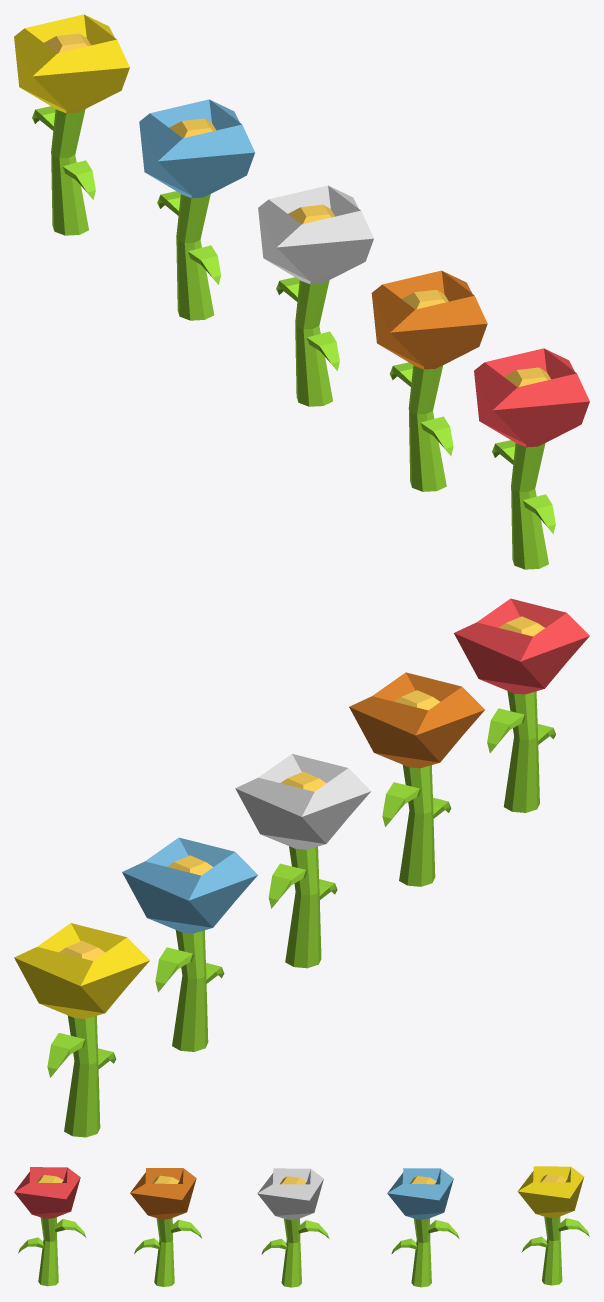
The model's file is Flowers.fbx.
The picture shows the model from 3 angles, top to bottom: view 1: azimuth 30°, elevation 25°; view 2: azimuth 150°, elevation 25°; view 3: azimuth 270°, elevation 25°; orthographic projection. The views are drawn at different scales.
Parts seen in each view (by area): view 1: Flower-3, Flower-5, Flower-4, Flower-1, Flower-2; view 2: Flower-1, Flower-5, Flower-4, Flower-3, Flower-2; view 3: Flower-5, Flower-3, Flower-4, Flower-1, Flower-2.
Part boxes in pixels (box(x1,y1,x2,y2)): Flower-3: box(258, 185, 373, 406); Flower-5: box(14, 14, 129, 235); Flower-4: box(139, 99, 255, 320); Flower-1: box(474, 348, 589, 569); Flower-2: box(371, 270, 487, 491); Flower-1: box(454, 598, 589, 812); Flower-5: box(14, 923, 149, 1137); Flower-4: box(122, 837, 257, 1051); Flower-3: box(235, 754, 371, 968); Flower-2: box(349, 672, 484, 886); Flower-5: box(517, 1166, 589, 1285); Flower-3: box(257, 1168, 329, 1287); Flower-4: box(387, 1168, 459, 1287); Flower-1: box(14, 1167, 86, 1286); Flower-2: box(130, 1168, 201, 1286).
Bounding box in the file's own units: 11.84 × 18.85 × 92.09.
